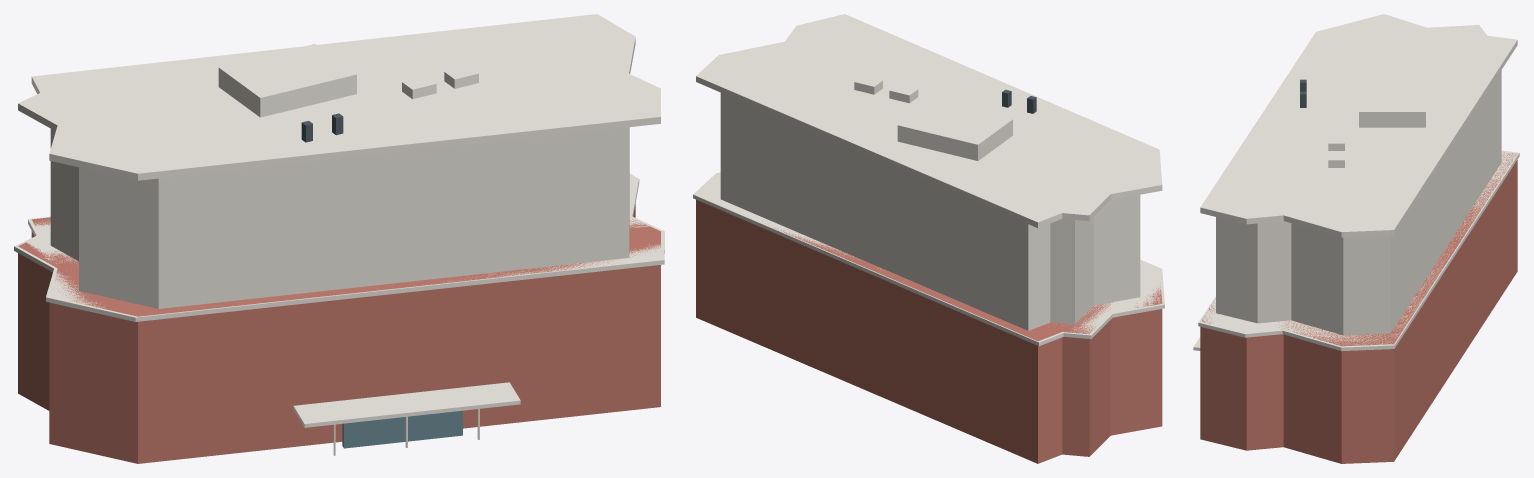
Rendered from stanley_ho_building.glb.
The picture shows the model from 3 angles, left to right: view 1: azimuth 30°, elevation 25°; view 2: azimuth 150°, elevation 25°; view 3: azimuth 270°, elevation 25°; orthographic projection. The views are drawn at different scales.
Parts seen in each view (by area): view 1: Stanley Ho Building_base, Stanley Ho Building_upper, Stanley Ho Building_parapet, Stanley Ho Building_band, Stanley Ho Building_roof_plant, Stanley Ho Building_canopy, Stanley Ho Building_door; view 2: Stanley Ho Building_base, Stanley Ho Building_upper, Stanley Ho Building_parapet, Stanley Ho Building_band, Stanley Ho Building_roof_plant; view 3: Stanley Ho Building_base, Stanley Ho Building_parapet, Stanley Ho Building_upper, Stanley Ho Building_band, Stanley Ho Building_roof_plant.
Part boxes in pixels (left/top/right/bottom): Stanley Ho Building_base: left=18, top=204, right=660, bottom=463; Stanley Ho Building_upper: left=50, top=127, right=629, bottom=308; Stanley Ho Building_parapet: left=18, top=14, right=660, bottom=180; Stanley Ho Building_band: left=14, top=173, right=664, bottom=321; Stanley Ho Building_roof_plant: left=218, top=44, right=356, bottom=117; Stanley Ho Building_canopy: left=293, top=382, right=520, bottom=427; Stanley Ho Building_door: left=342, top=410, right=462, bottom=448; Stanley Ho Building_base: left=696, top=199, right=1162, bottom=463; Stanley Ho Building_upper: left=720, top=93, right=1140, bottom=330; Stanley Ho Building_parapet: left=696, top=14, right=1162, bottom=227; Stanley Ho Building_band: left=693, top=172, right=1164, bottom=346; Stanley Ho Building_roof_plant: left=897, top=99, right=1012, bottom=160; Stanley Ho Building_base: left=1200, top=152, right=1517, bottom=463; Stanley Ho Building_parapet: left=1200, top=14, right=1517, bottom=237; Stanley Ho Building_upper: left=1216, top=70, right=1501, bottom=335; Stanley Ho Building_band: left=1198, top=150, right=1519, bottom=351; Stanley Ho Building_roof_plant: left=1359, top=74, right=1425, bottom=127.
Bounding box in the file's own units: 46.88 × 24.5 × 29.27.
